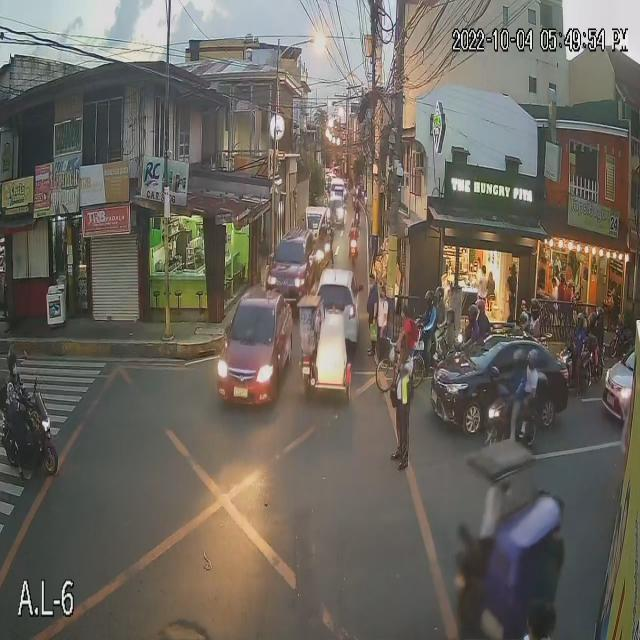helmet: (6, 351, 28, 378), (420, 289, 437, 311), (527, 348, 544, 370), (526, 297, 544, 316), (470, 298, 488, 316), (512, 349, 526, 372), (517, 310, 532, 331), (574, 309, 590, 327), (350, 196, 364, 216), (466, 301, 478, 321), (589, 309, 599, 329), (593, 305, 607, 319), (435, 284, 446, 299), (350, 217, 357, 231)
motorcycle: (0, 398, 76, 478), (485, 398, 549, 455), (403, 321, 458, 364), (553, 345, 602, 393), (345, 237, 364, 263), (352, 213, 364, 224)
rider: (1, 344, 35, 432), (523, 342, 544, 413), (472, 293, 493, 347), (507, 345, 527, 401), (525, 291, 545, 343), (430, 283, 449, 336), (465, 302, 481, 359), (420, 289, 436, 340), (575, 307, 588, 366), (517, 306, 532, 344), (346, 217, 360, 248), (587, 311, 598, 350), (594, 302, 604, 342)
